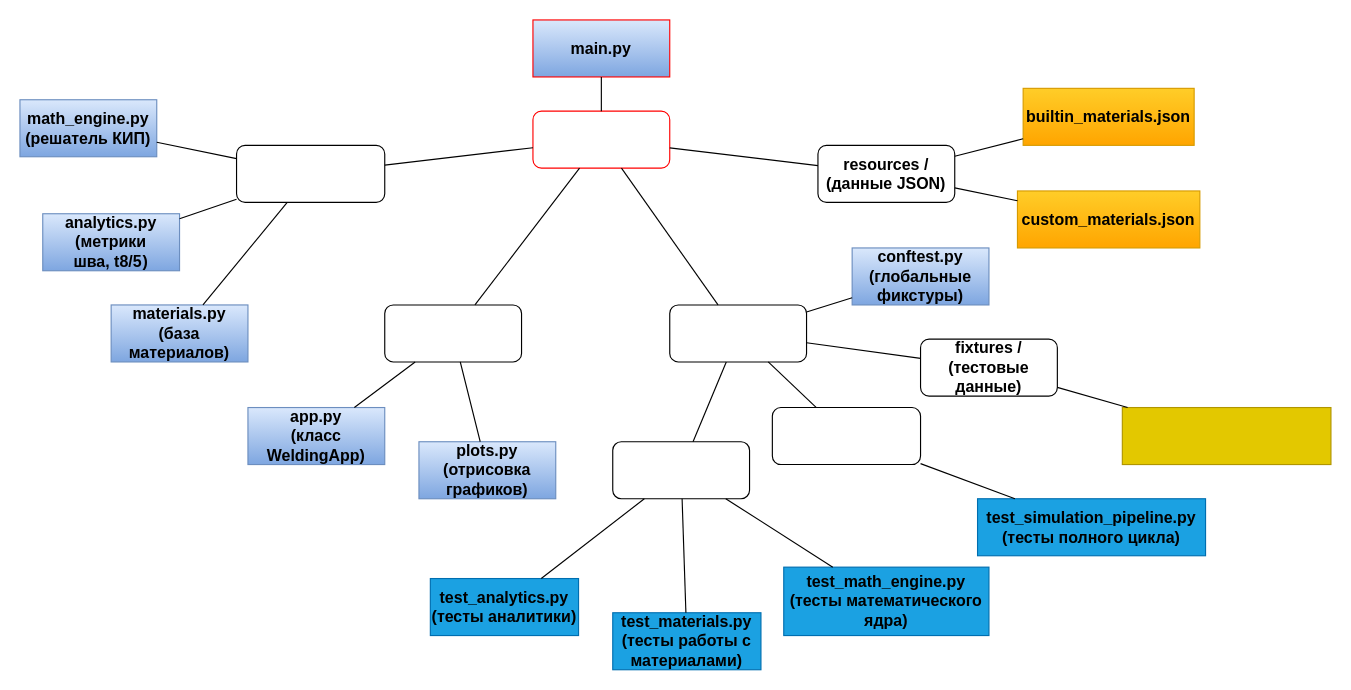
The diagram is 1351 pixels wide and 690 high, and some of its shapes have lost their labels. Each missing label, with the box of its shape:
core / (математическое ядро): (235, 144, 385, 202)
expected_results.json (ожидаемые результаты для верификации): (1121, 406, 1331, 465)
gui / (графический интерфейс): (384, 304, 522, 362)
integration / (интеграционное тестирование): (771, 406, 921, 465)
tests / (тестирование pytest): (669, 304, 807, 362)
unit / (модульное тестирование): (612, 441, 750, 499)
welding_sim/ (корневая папка): (532, 110, 670, 168)
